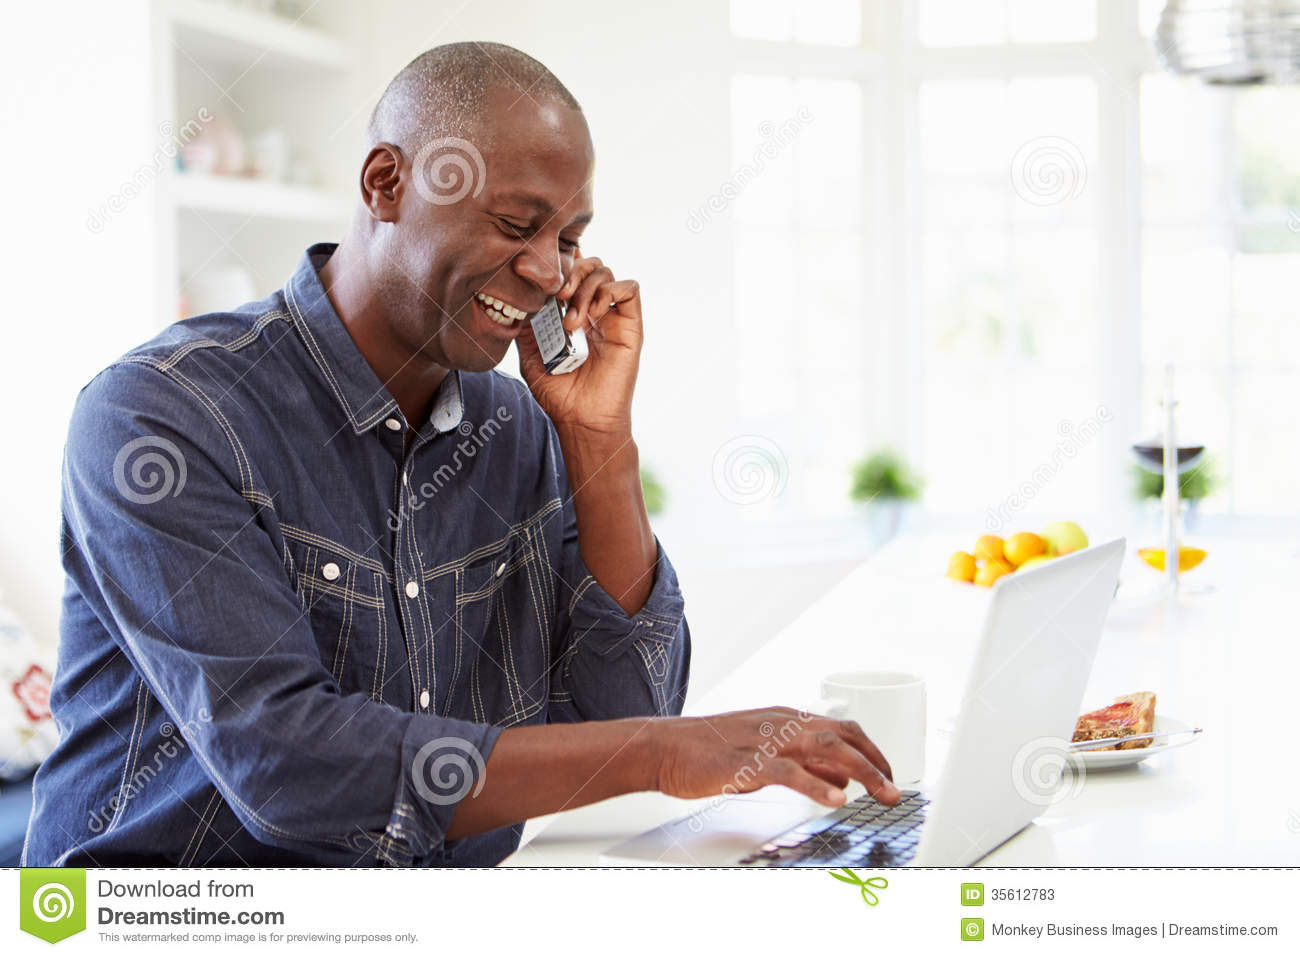phone: (518, 258, 626, 392)
talk: (393, 157, 669, 416)
